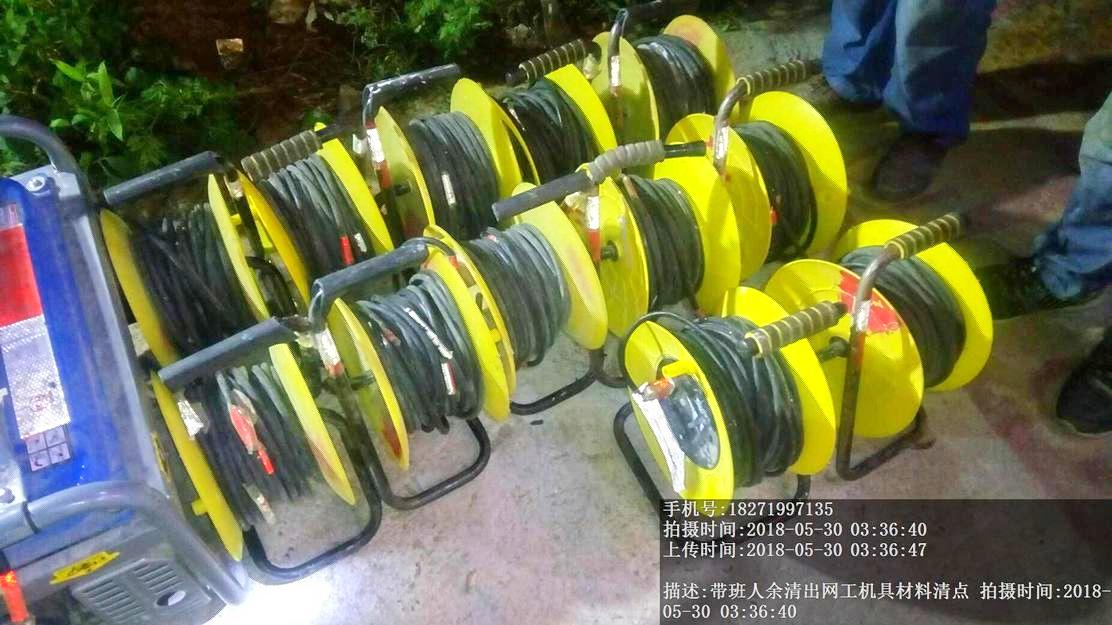DX: (135, 346, 392, 568), (793, 221, 992, 452), (614, 295, 817, 495)
